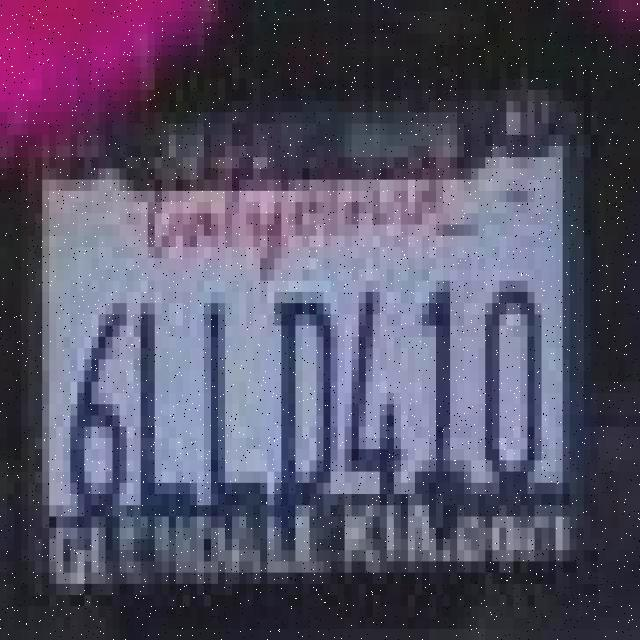licenseplate: (38, 146, 603, 603)
